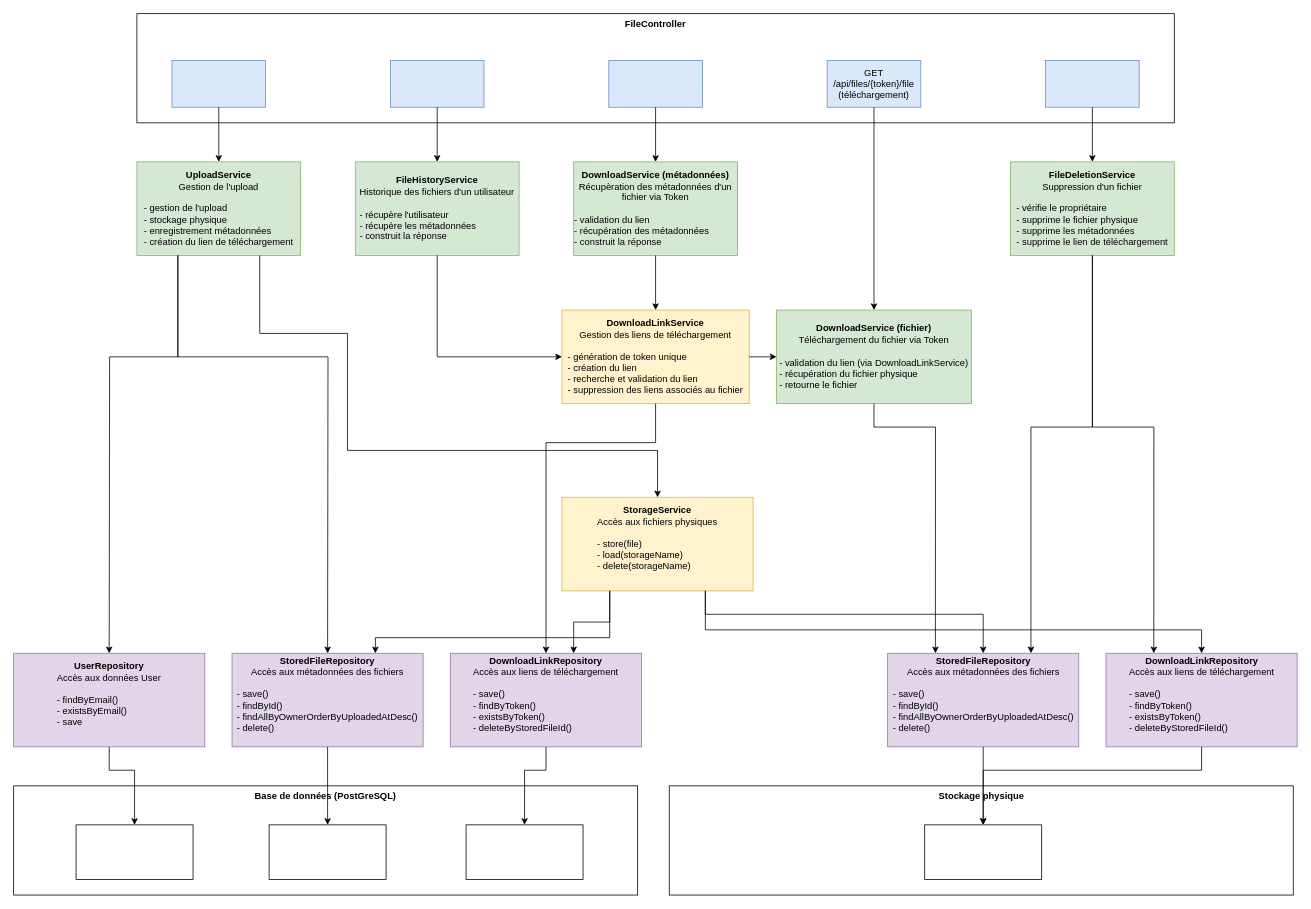
This 1311x909 diagram has some shape labels left out. The shapes that lost their labels are listed below. From the top down, each one's centre as x and y in pixels, then its label:
pixel 218 83: POST /api/files (upload)
pixel 437 83: GET /api/files (historique)
pixel 655 83: GET /api/files/{token} (métadonnées)
pixel 1092 83: DELETE /api/files/{id} (suppression)
pixel 134 851: Table users (User)
pixel 327 851: Table stored_files (StoredFile)
pixel 524 851: Table download_links (DownloadLink)
pixel 983 851: uploads/
